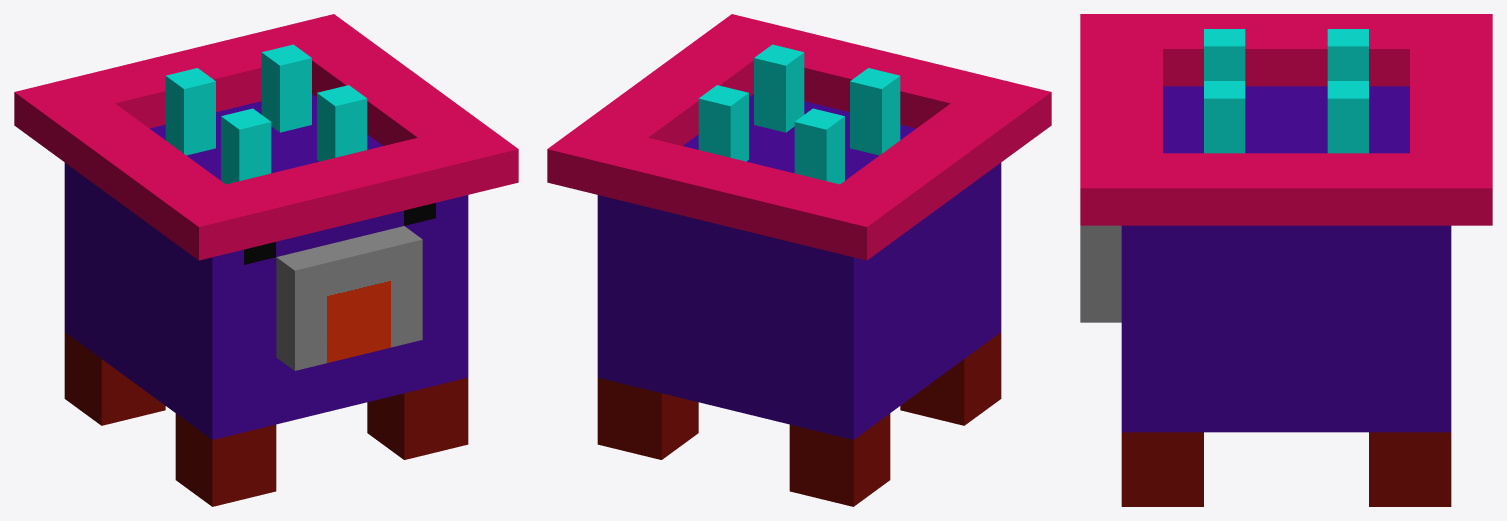
The model's file is Banse.fbx.
The picture shows the model from 3 angles, left to right: view 1: azimuth 30°, elevation 25°; view 2: azimuth 150°, elevation 25°; view 3: azimuth 270°, elevation 25°; orthographic projection. The views are drawn at different scales.
Parts seen in each view (by area): view 1: Banse; view 2: Banse; view 3: Banse.
Part boxes in pixels (x1,y1,x2,y2): Banse: (14,14,518,506); Banse: (547,14,1051,506); Banse: (1080,14,1492,506).
Size of the model in its own units: 10 by 10 by 10.
Materials: 1 (1 with a texture image).
